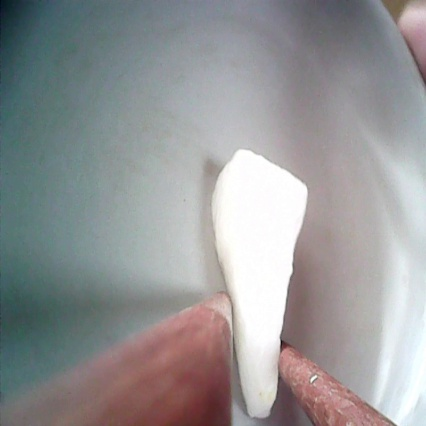white_chinese-yam: (208, 144, 313, 423)
